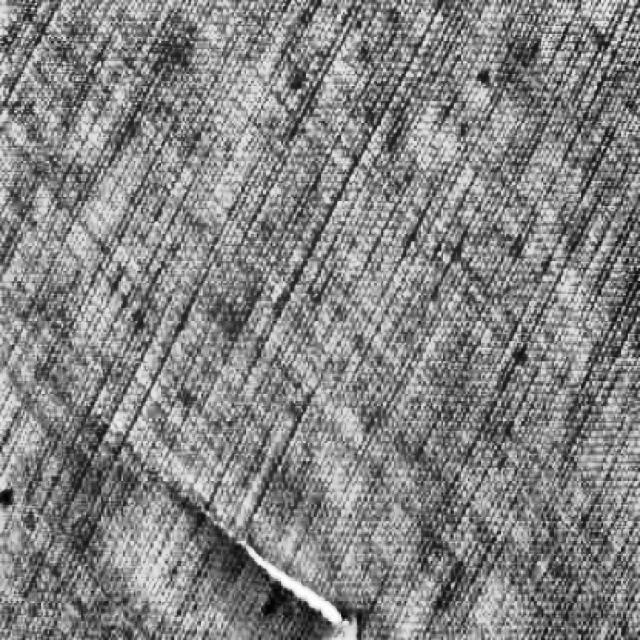hole: (182, 488, 353, 640)
